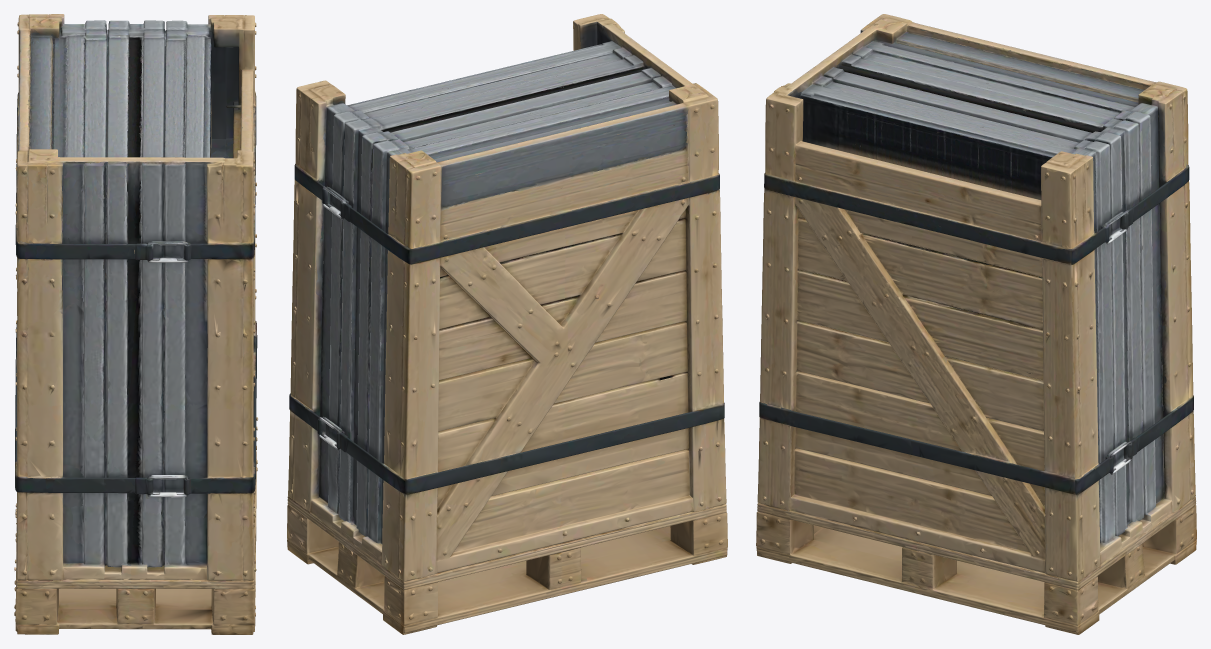
Rendered from crate.glb.
3 views of the same model, side by side, from view 1: azimuth 30°, elevation 25°; view 2: azimuth 150°, elevation 25°; view 3: azimuth 270°, elevation 25° (orthographic).
Parts seen in each view (by area): view 1: tripo_node_52b56451-6ab7-4396-ac56-0e72af89dd61; view 2: tripo_node_52b56451-6ab7-4396-ac56-0e72af89dd61; view 3: tripo_node_52b56451-6ab7-4396-ac56-0e72af89dd61.
Boxes of the visible parts, x1,y1,x2,y2 form: tripo_node_52b56451-6ab7-4396-ac56-0e72af89dd61: (14, 14, 257, 634); tripo_node_52b56451-6ab7-4396-ac56-0e72af89dd61: (287, 14, 727, 634); tripo_node_52b56451-6ab7-4396-ac56-0e72af89dd61: (756, 14, 1196, 634).
Bounding box in the file's own units: 24628 × 32056 × 27711.
1 material, 1 textured.
